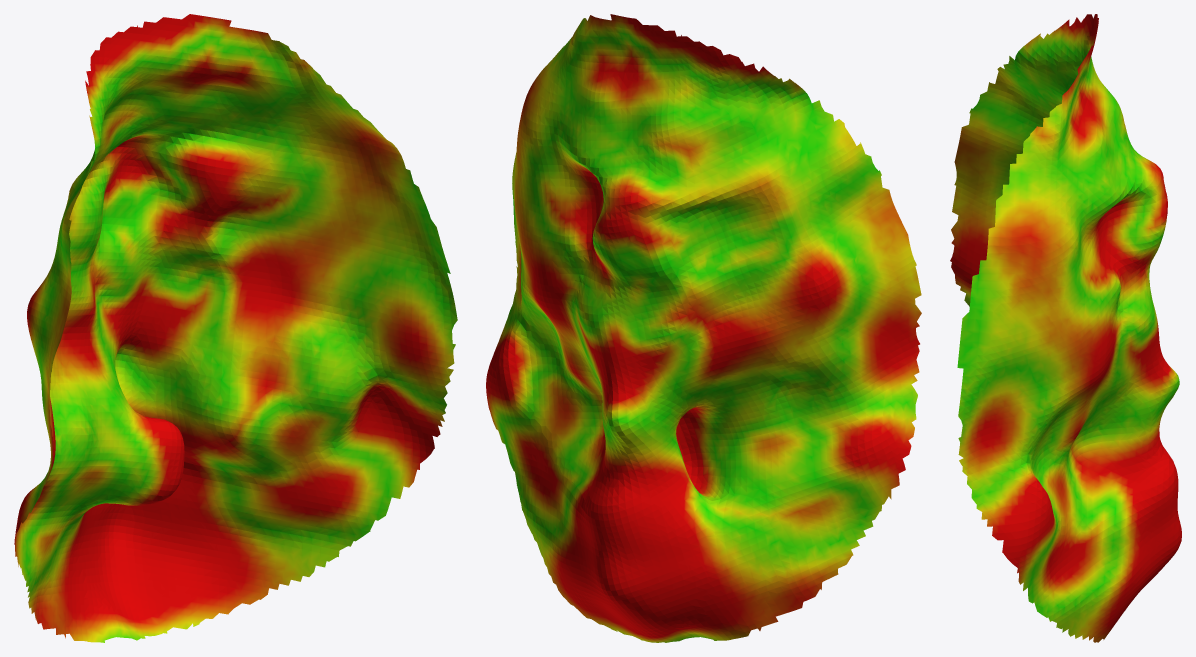
3 renders of one model, left to right at view 1: azimuth 30°, elevation 25°; view 2: azimuth 150°, elevation 25°; view 3: azimuth 270°, elevation 25°, orthographic. The views are drawn at different scales.
Bounding box in the file's own units: 127 × 179 × 64.65.
